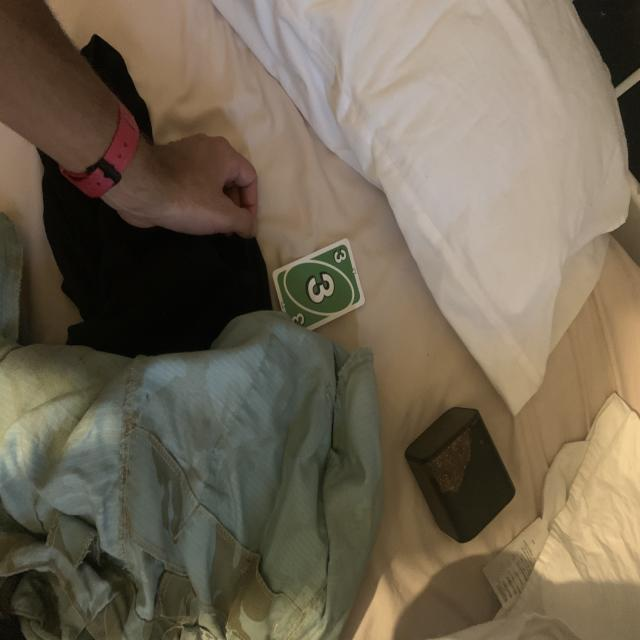lgreen-3: (332, 247, 348, 267)
